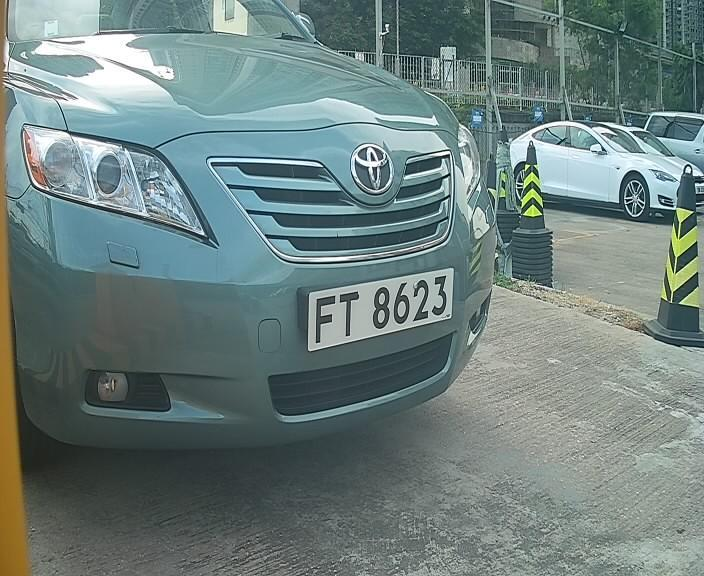privatecar: (13, 13, 522, 456)
